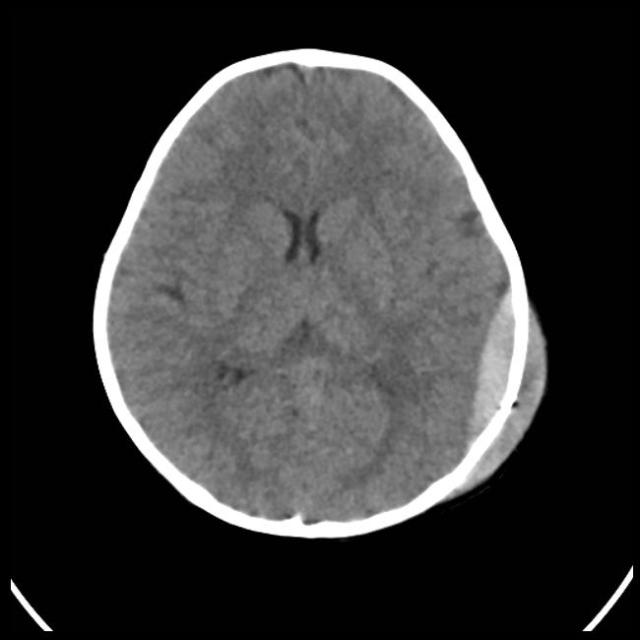lesion: (90, 47, 548, 539)
